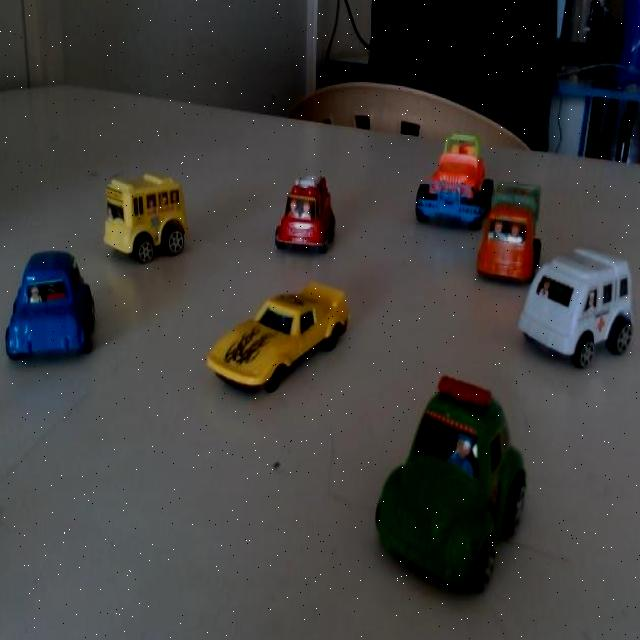car: (376, 380, 538, 574), (208, 270, 352, 402), (520, 233, 640, 380), (0, 245, 96, 374), (110, 172, 196, 272), (407, 125, 489, 226), (478, 170, 545, 288), (276, 164, 347, 266)
